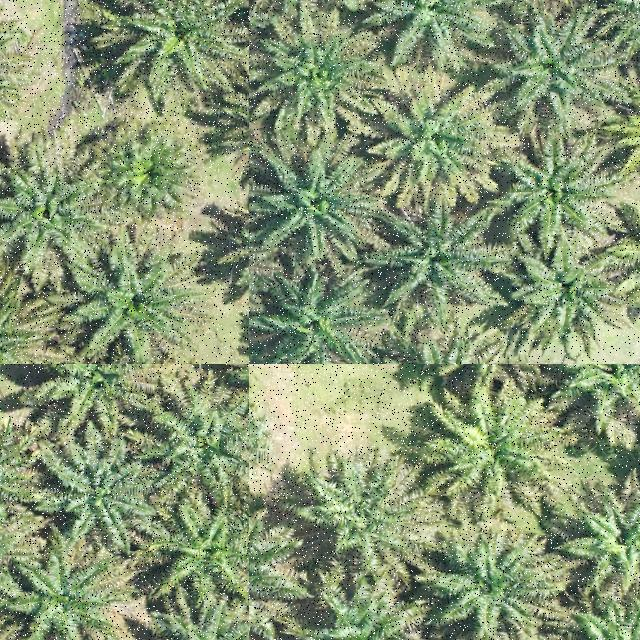Ganoderma: (618, 215, 640, 299), (619, 87, 640, 169)
